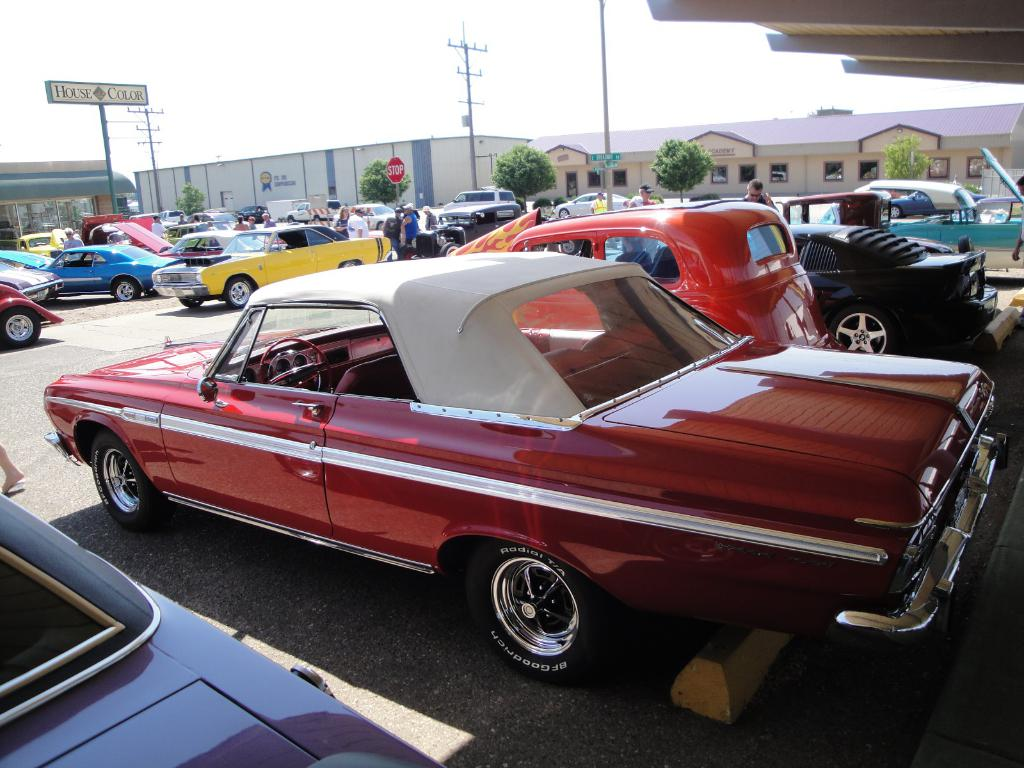mobil: (94, 277, 995, 689), (159, 222, 383, 296)
